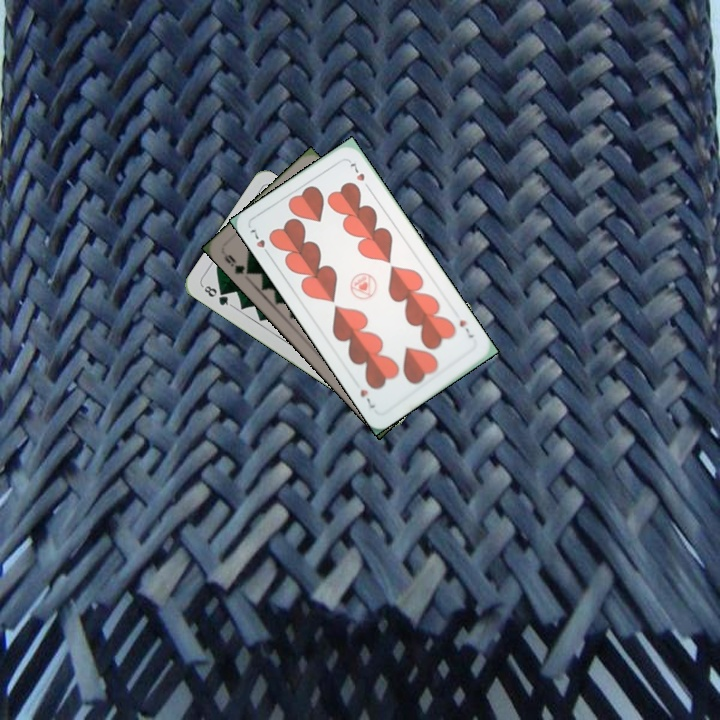G8: (199, 281, 235, 309)
G9: (220, 248, 256, 277)
H7: (246, 225, 274, 260), (455, 316, 476, 341)
